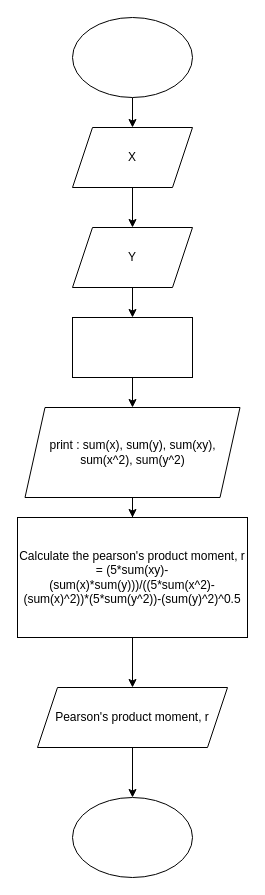
The diagram is 265 pixels wide and 895 high, and some of its shapes have lost their labels. The shapes that lost their labels are listed below. From the top down, each one's centre as x and y in pixels, then its label:
At point (132, 57): "control".
At point (132, 347): "Calculate sum(x), sum(y), sum(xy), sum(x^2), sum(y^2)".
At point (132, 837): "end".
